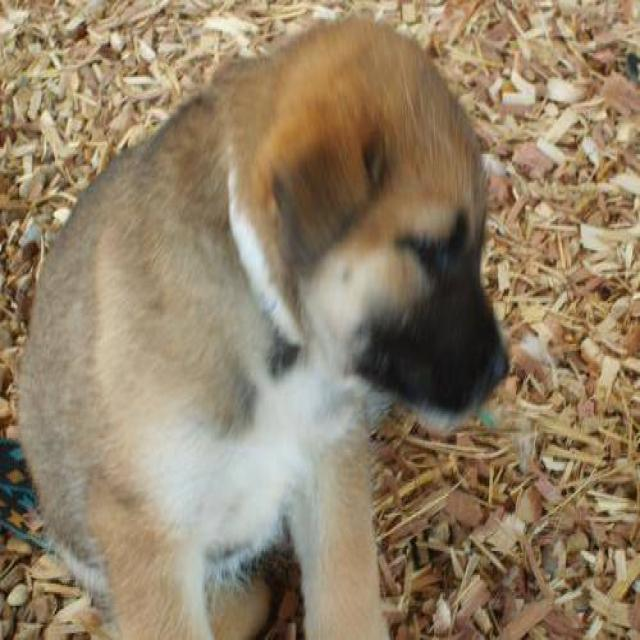dog: (15, 12, 511, 638)
